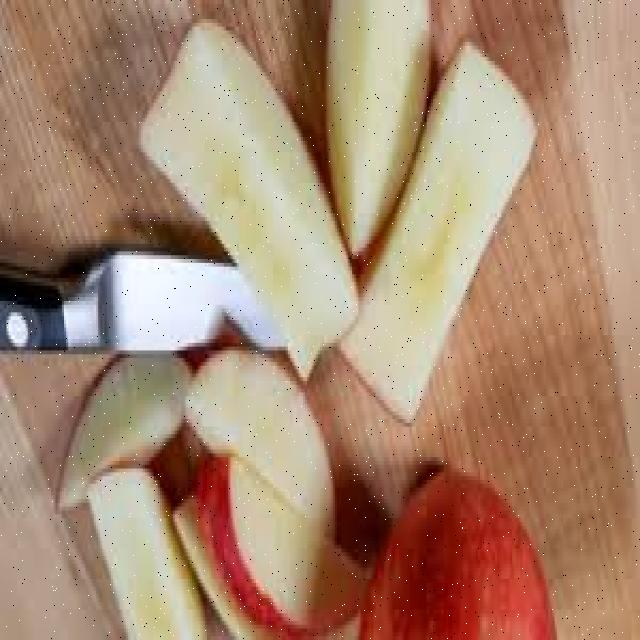Apple: (341, 56, 538, 415), (146, 65, 351, 373), (358, 465, 564, 640), (331, 0, 428, 255), (204, 499, 375, 632), (177, 377, 356, 499), (48, 357, 186, 512), (90, 491, 200, 635)
